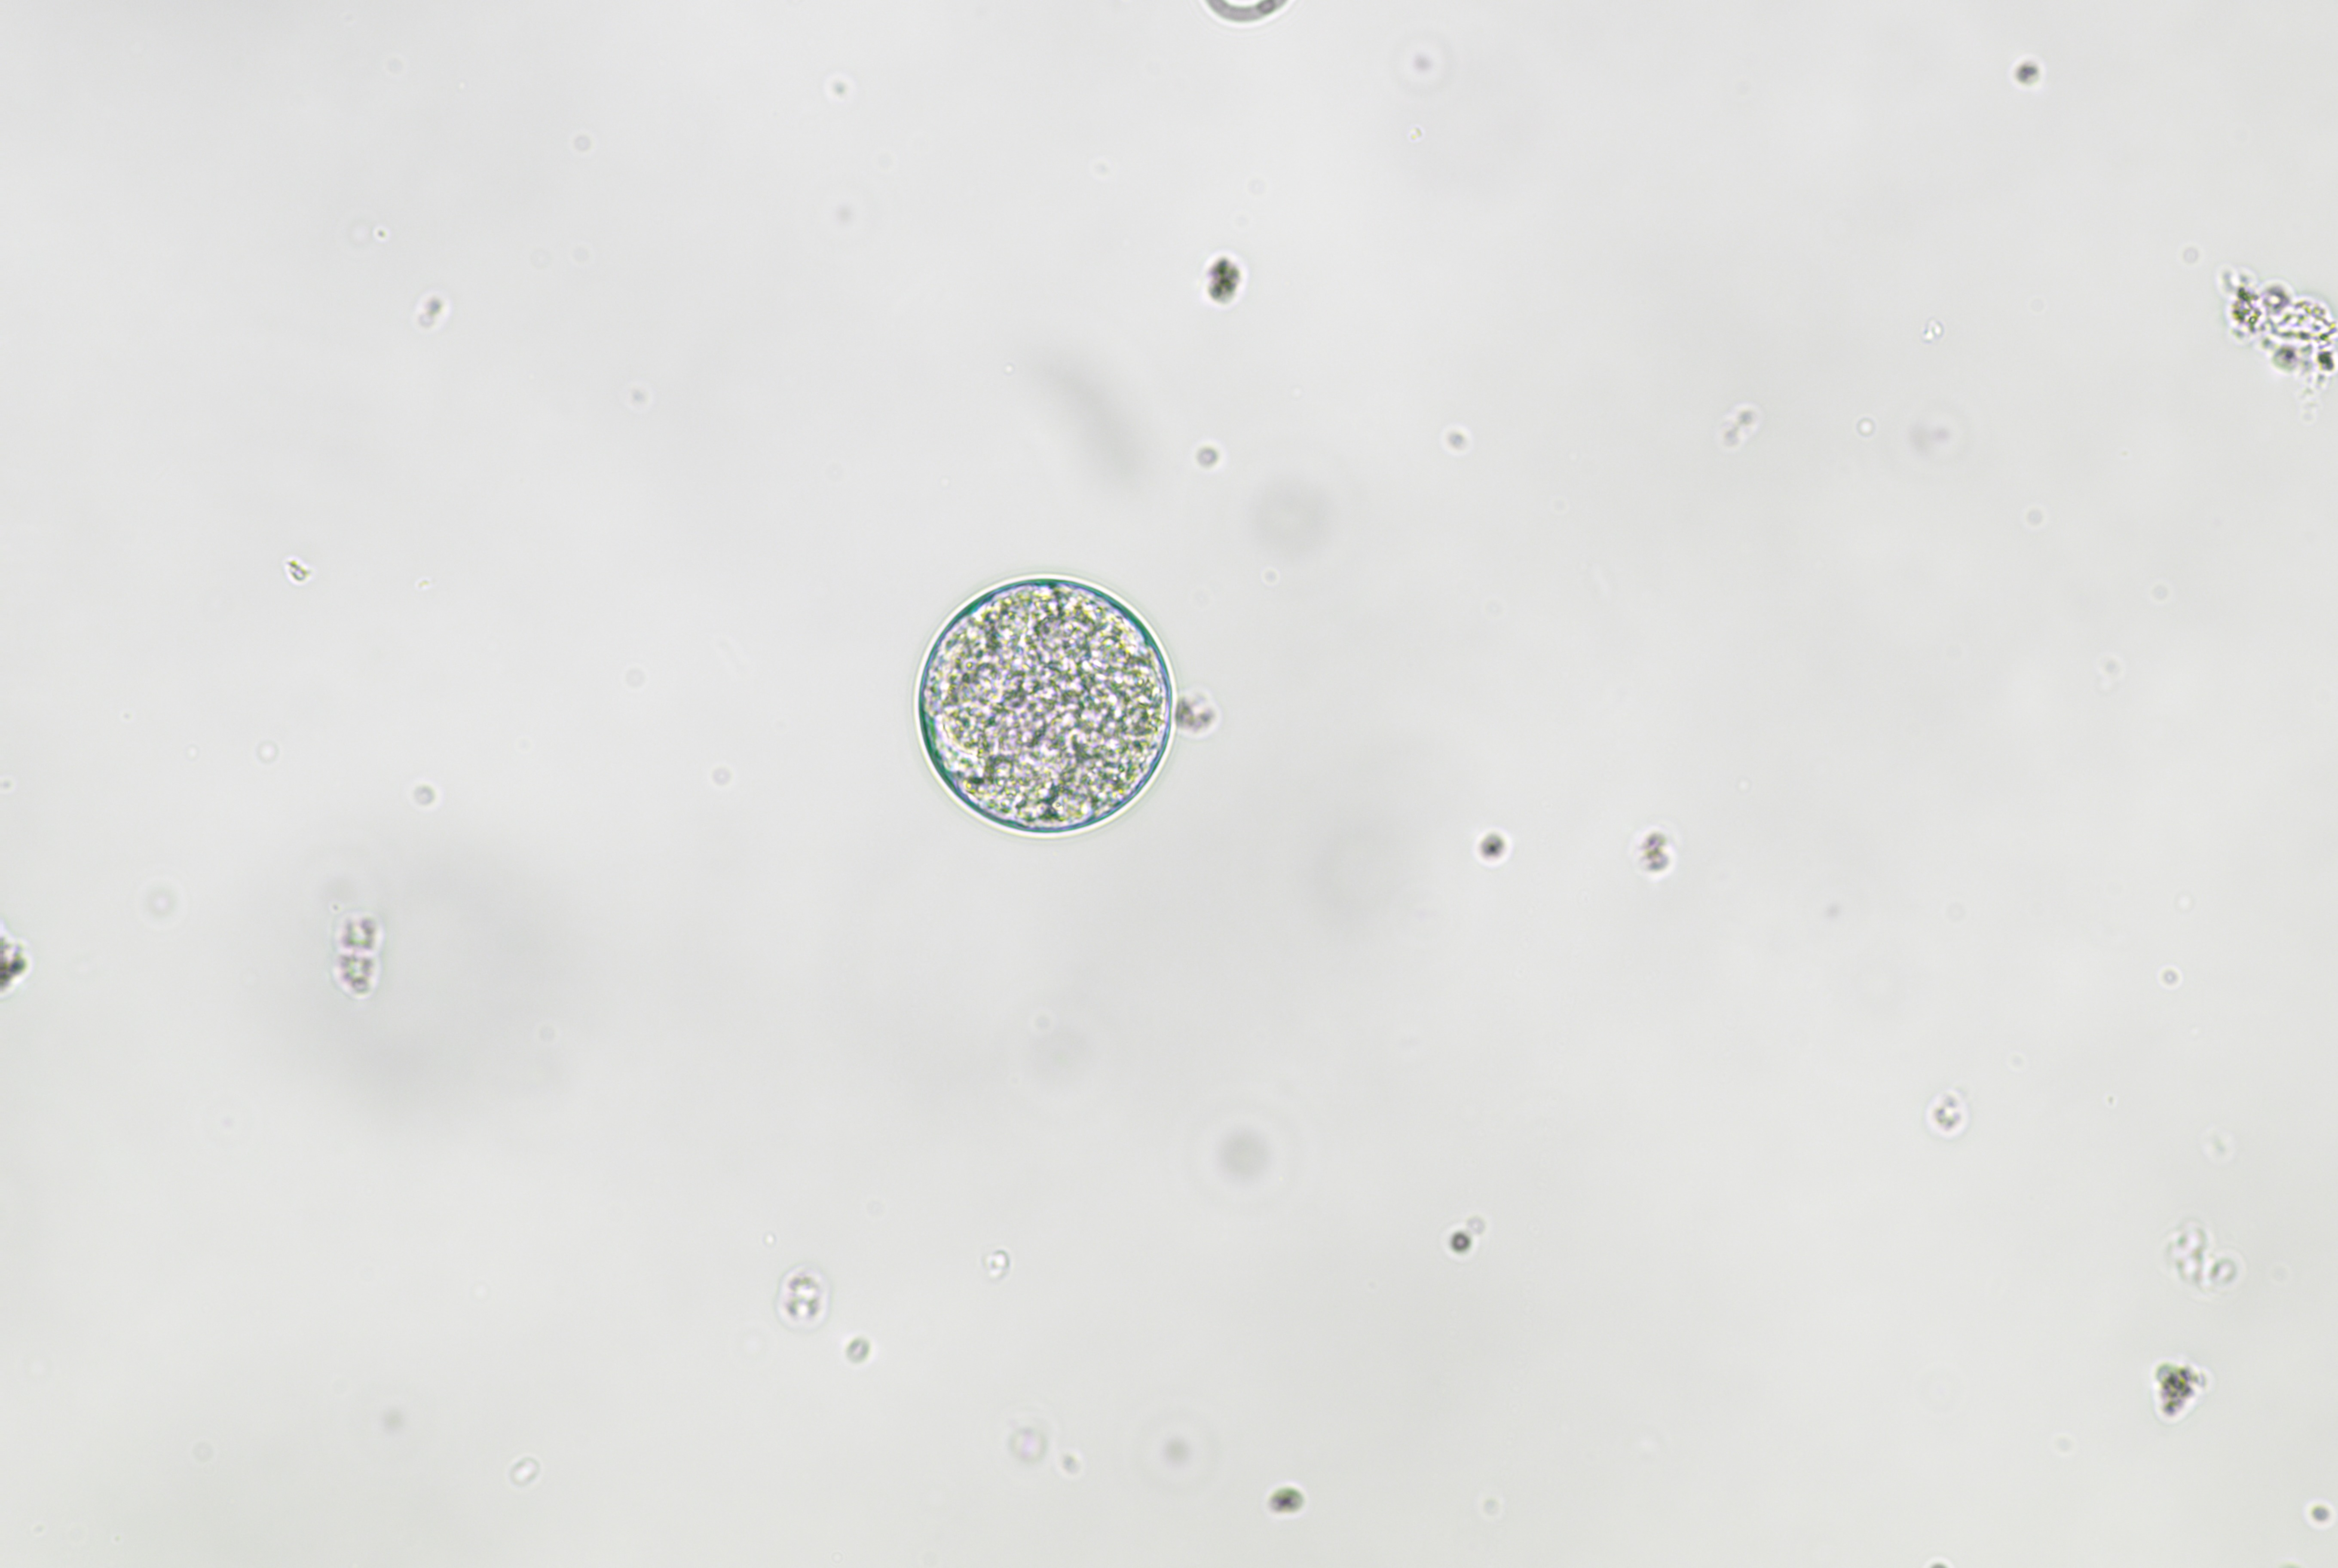coscinodiscus: (891, 572, 1194, 838)
